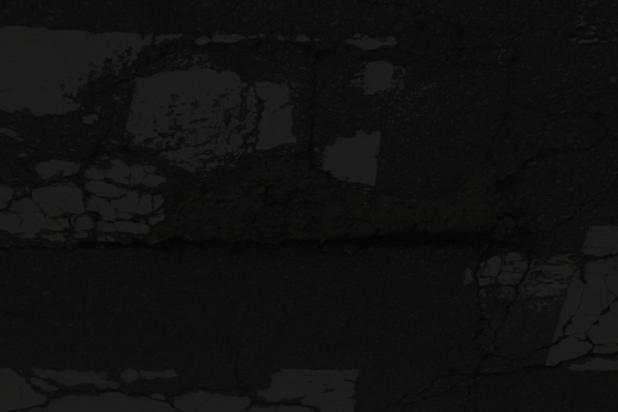pothole: (125, 164, 551, 264)
